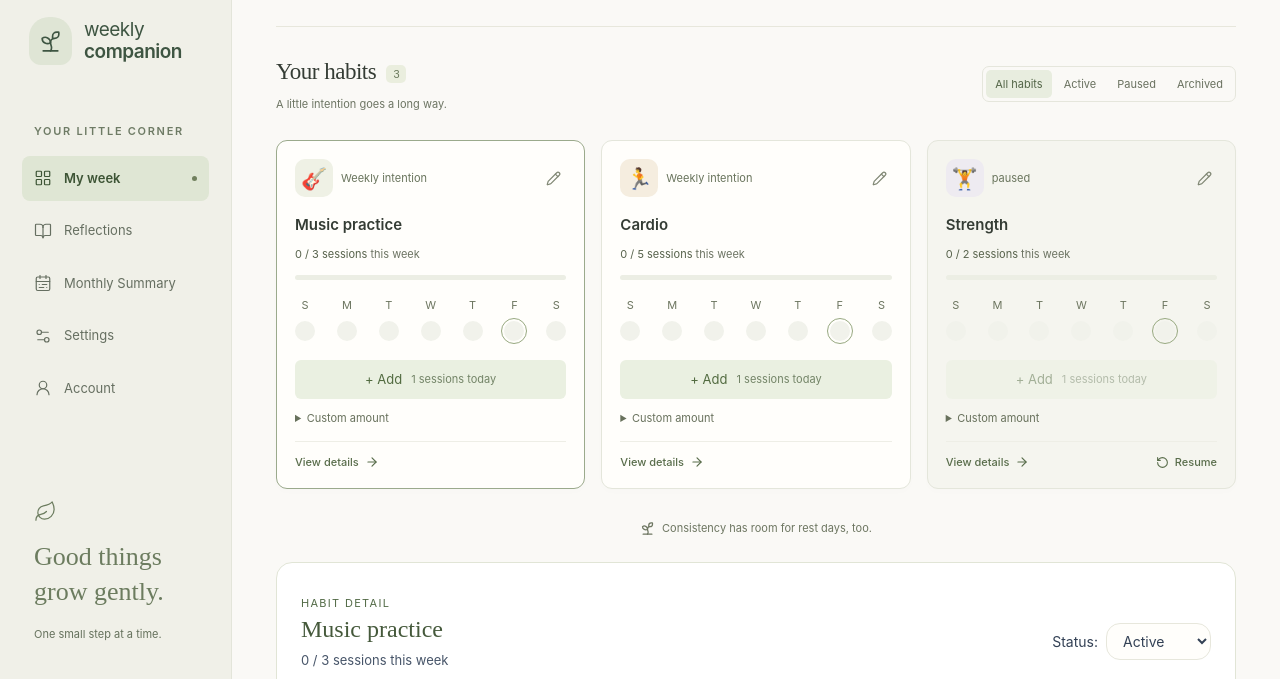
Test case: App layout and navigation › renders monthly summary with aggregated logs
The image size is (1280, 679).
(page scrolled)
Click the 1st button "+ Add 1 sessions today".
click(431, 380)  # box [295, 360, 566, 399]
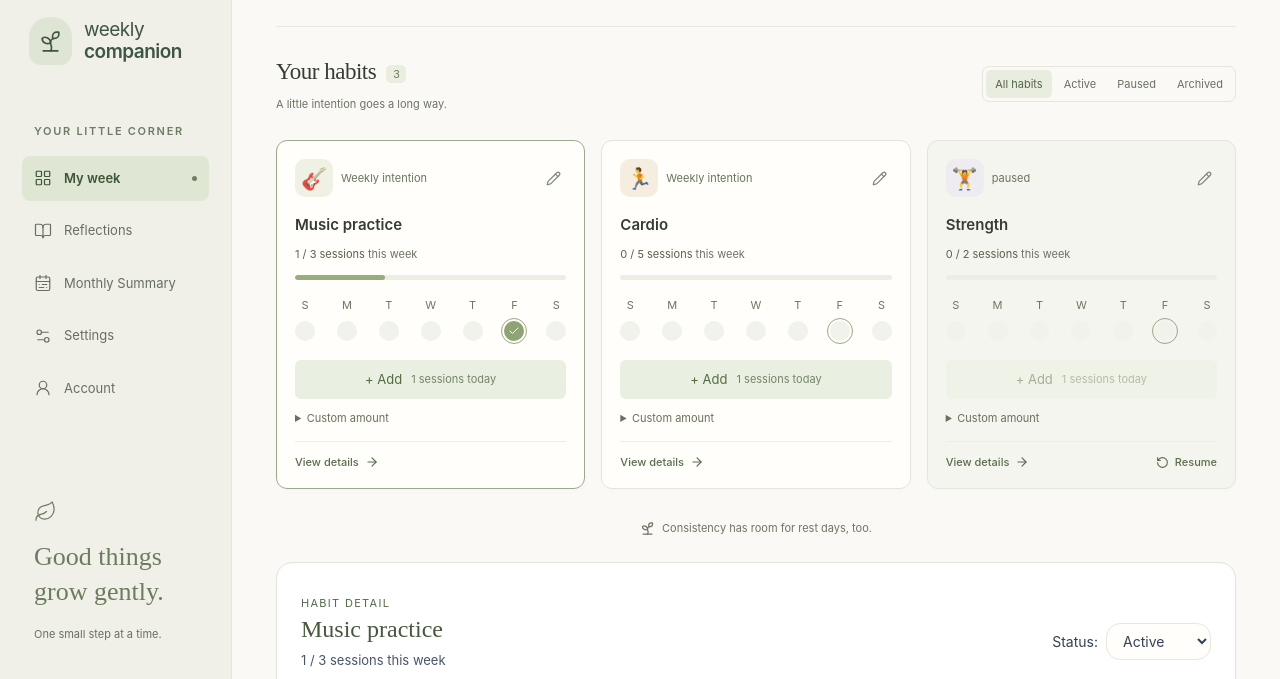
Click the button "Monthly Summary".
click(116, 283)  # box [22, 260, 209, 306]
(page scrolled)
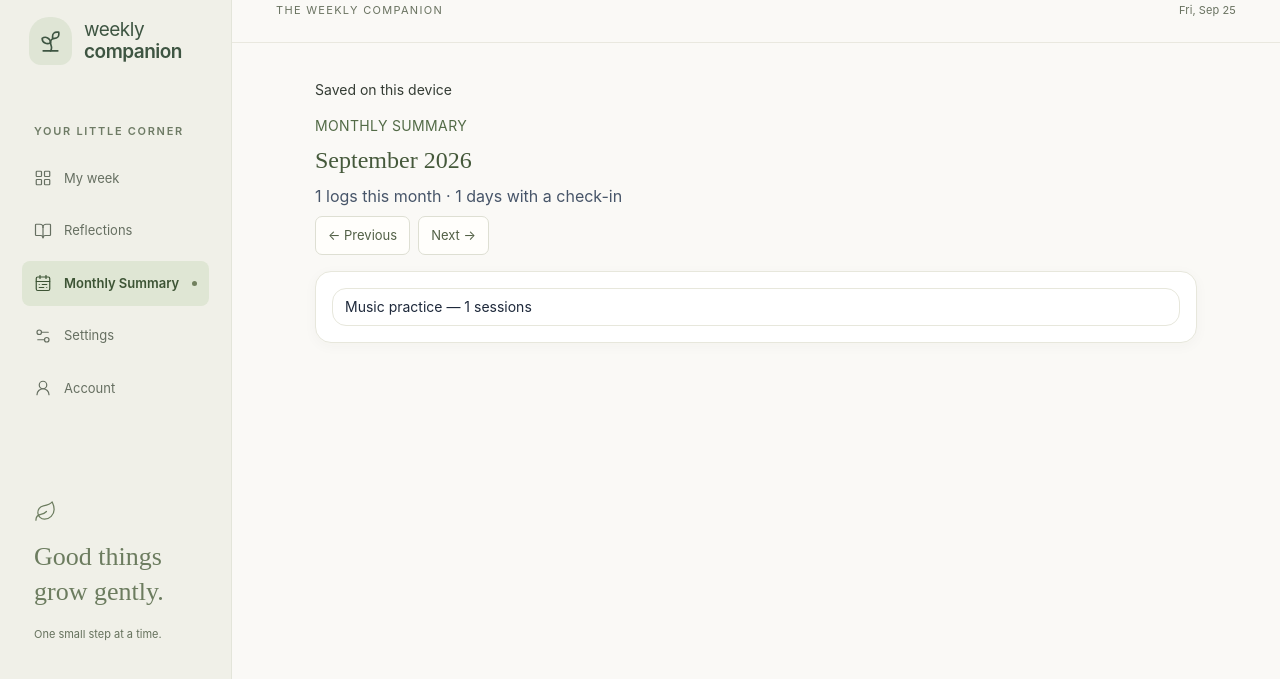
Expected: the text "1 logs this month · 1 days with a check-in" is shown, [315, 186, 622, 206]
Expected: the text "Music practice — 1 sessions" is shown, [345, 297, 532, 317]
